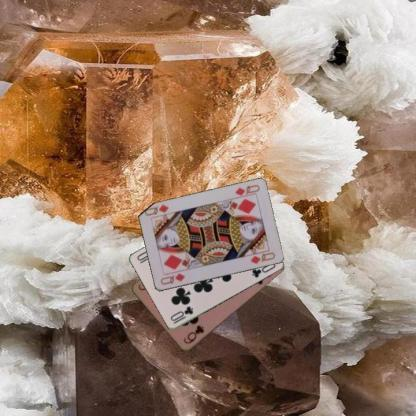10c: (167, 304, 195, 325)
6c: (181, 323, 206, 345)
Qd: (232, 182, 260, 200), (158, 271, 186, 286)
